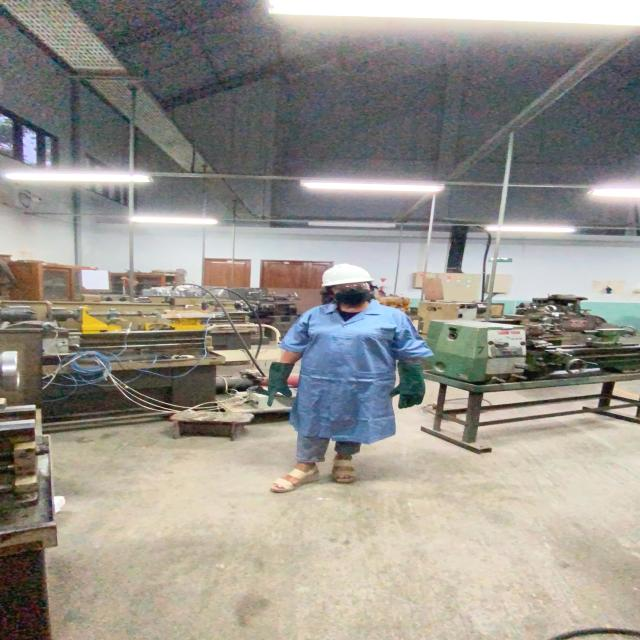face_mask: (330, 280, 376, 308)
glasses: (327, 282, 372, 291)
hand_glove: (386, 378, 432, 413), (257, 378, 297, 406)
head_helmet: (317, 262, 374, 286)
person: (251, 260, 437, 494)
